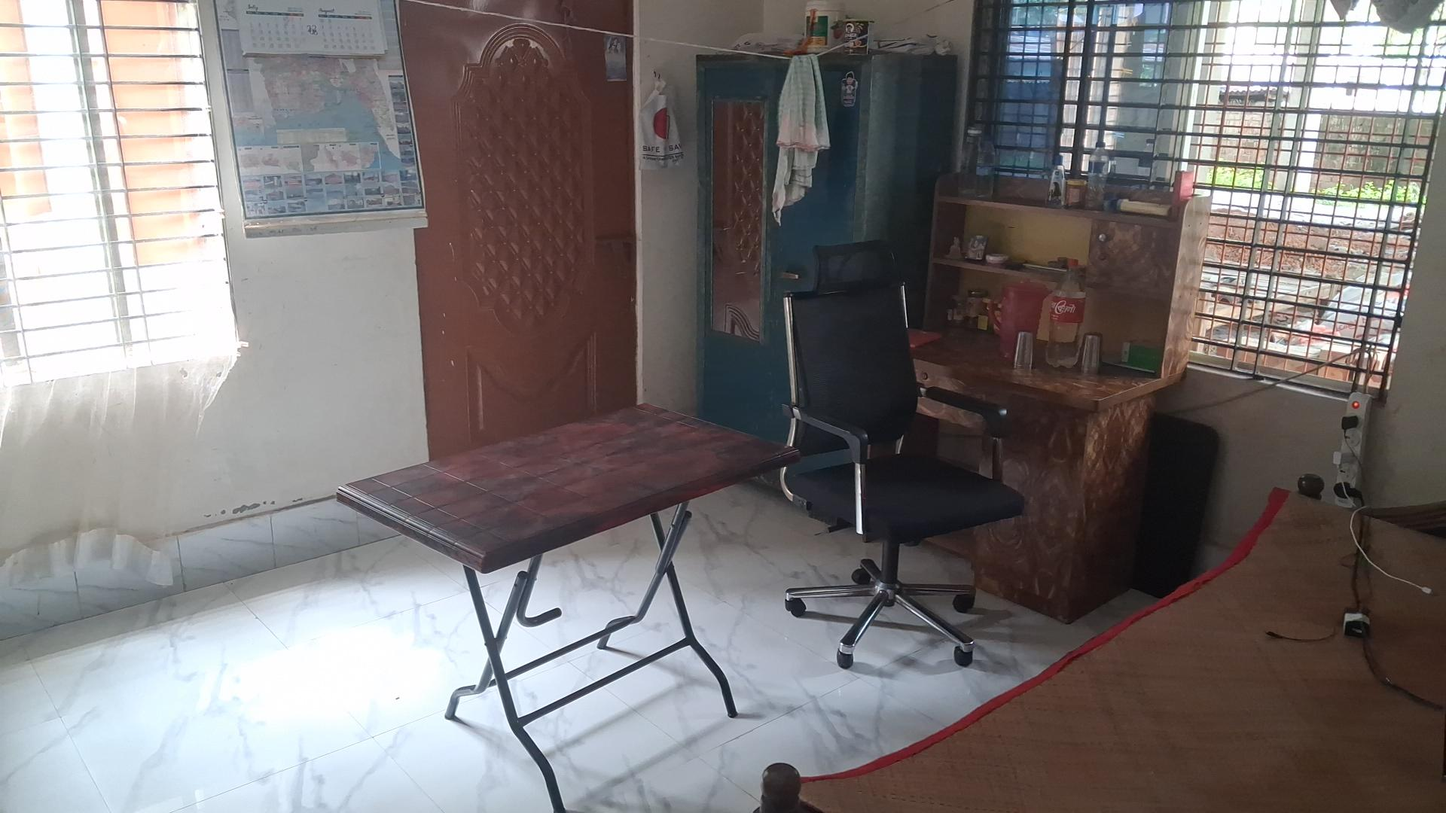Bag: (639, 80, 687, 175)
Bottle: (1046, 262, 1086, 370), (961, 125, 979, 198), (1111, 196, 1172, 217), (1087, 140, 1105, 209), (977, 136, 995, 197), (1049, 155, 1067, 204)
Box: (1121, 337, 1161, 370)
Chair: (780, 281, 1025, 671)
Door: (385, 0, 641, 403)
Glass: (1015, 329, 1034, 369), (1083, 332, 1100, 372)
Jar: (976, 300, 996, 328), (1067, 177, 1086, 206), (967, 293, 986, 321), (947, 295, 967, 321)
Table: (328, 398, 785, 731)
Window: (1192, 0, 1441, 398), (0, 5, 241, 385)
